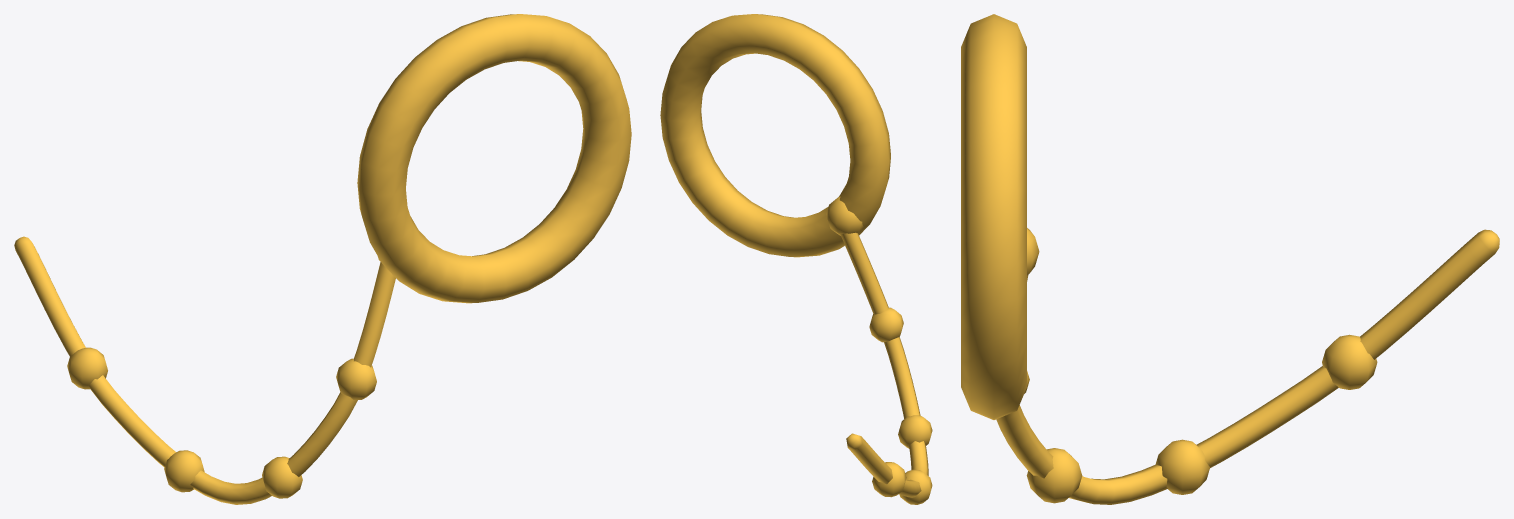
The model's file is monocle.glb.
3 views of the same model, side by side, from view 1: azimuth 30°, elevation 25°; view 2: azimuth 150°, elevation 25°; view 3: azimuth 270°, elevation 25° (orthographic). The views are drawn at different scales.
Visible parts, largest first — view 1: monocle-mesh; view 2: monocle-mesh; view 3: monocle-mesh.
Part boxes in pixels (x1,y1,x2,y2): monocle-mesh: (14,14,631,504); monocle-mesh: (660,14,932,504); monocle-mesh: (961,14,1499,504).
Size of the model in its own units: 0.509 by 0.5341 by 0.4264.
